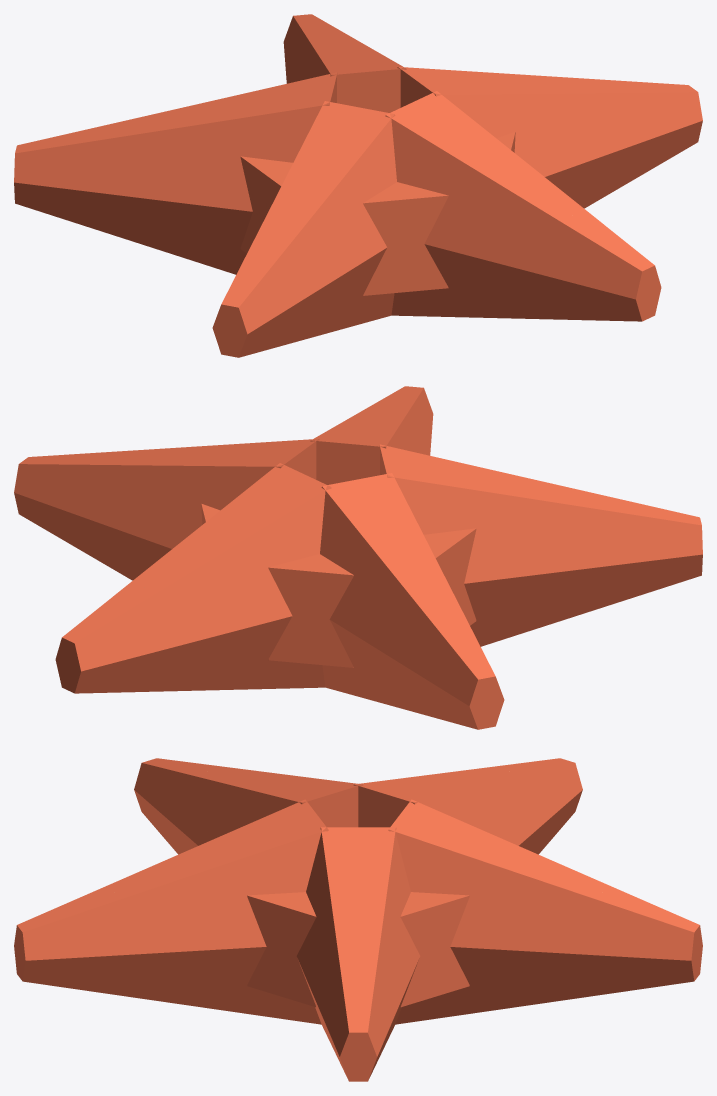
File: starfish.glb
3 views of the same model, one above another, from view 1: azimuth 30°, elevation 25°; view 2: azimuth 150°, elevation 25°; view 3: azimuth 270°, elevation 25° (orthographic). The views are drawn at different scales.
Visible parts, largest first — view 1: starfish; view 2: starfish; view 3: starfish.
Boxes of the visible parts, left/top/right/bottom form: starfish: left=14, top=14, right=702, bottom=357; starfish: left=14, top=386, right=702, bottom=729; starfish: left=14, top=758, right=702, bottom=1081.
Size of the model in its own units: 1.05 by 0.3464 by 1.1.
